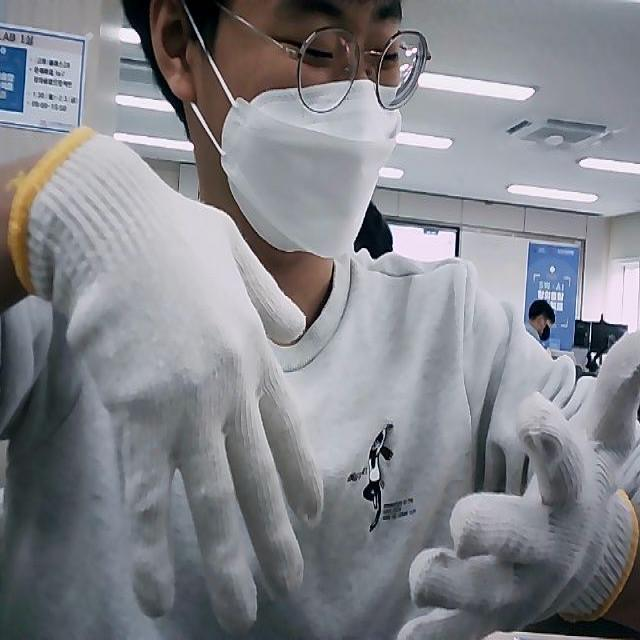gloves: (11, 126, 326, 634), (396, 327, 639, 640)
